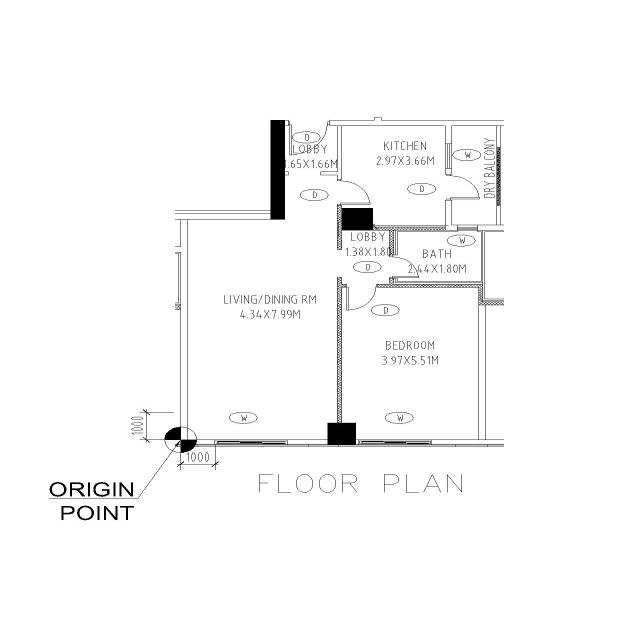Column: (270, 120, 286, 220), (340, 208, 374, 230), (327, 422, 357, 446)
Door: (287, 120, 331, 126), (444, 173, 452, 200), (388, 254, 394, 280), (337, 178, 342, 206), (344, 284, 378, 288)
Ventilator: (456, 225, 478, 232)
Window: (214, 439, 288, 446), (358, 439, 432, 446), (444, 143, 452, 169)
